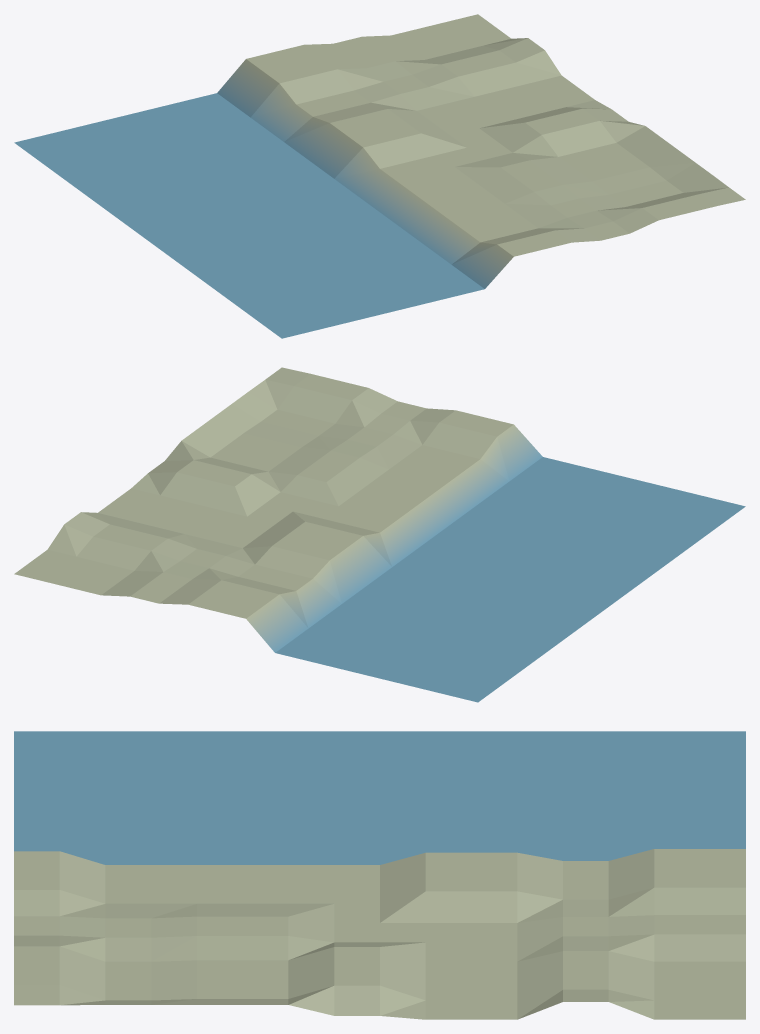
3 renders of one model, top to bottom at view 1: azimuth 30°, elevation 25°; view 2: azimuth 150°, elevation 25°; view 3: azimuth 270°, elevation 25°, orthographic. The views are drawn at different scales.
Bounding box in the file's own units: 32 × 1.86 × 32.
